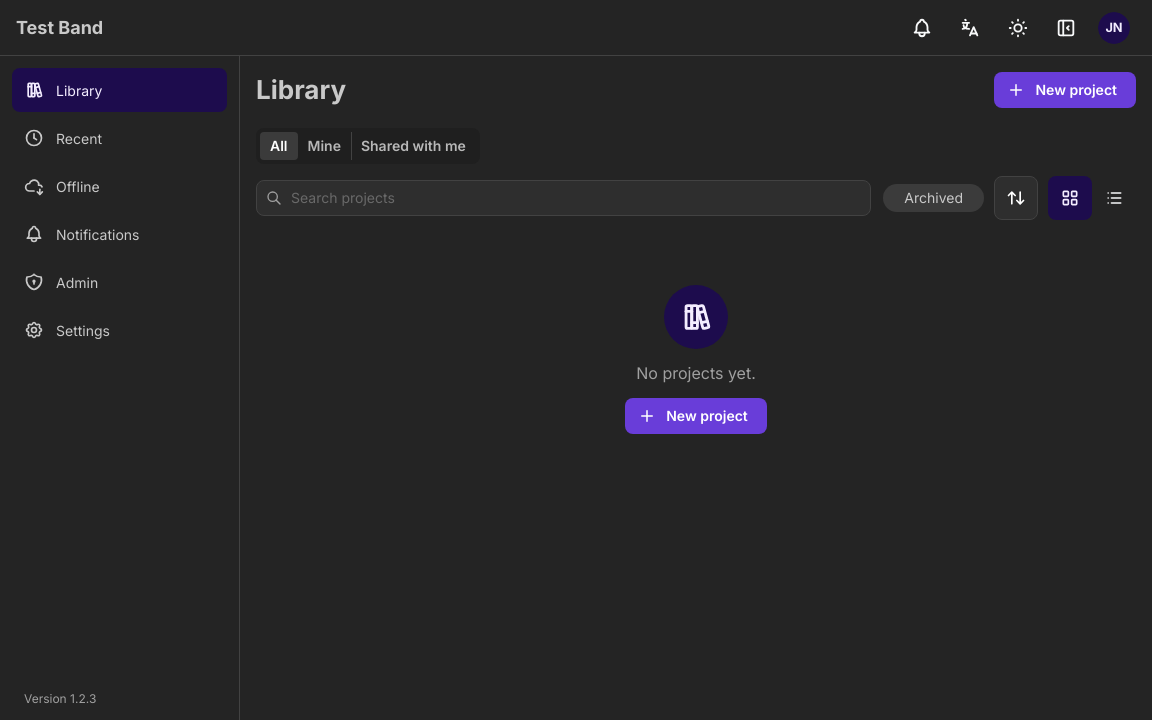
Test: app shell (logged in) › navigates between sections
Click the link "Offline": point(62, 186) [24, 176, 100, 196]
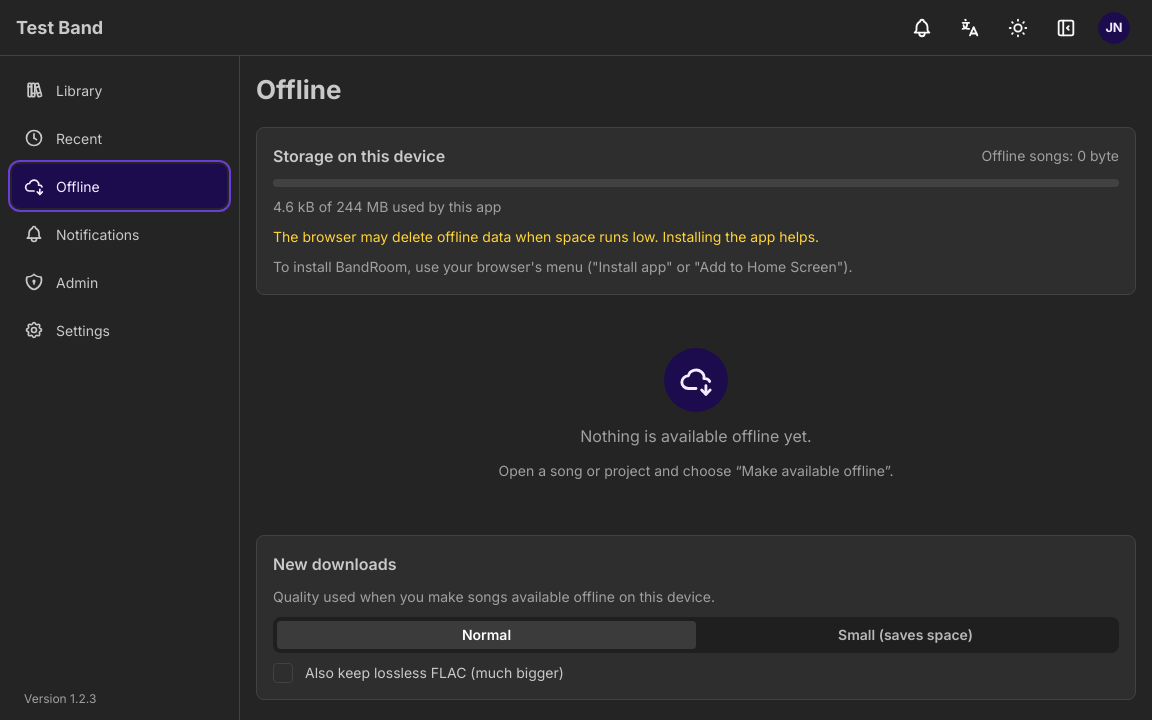
Now the heading "Offline" is shown, box [256, 74, 341, 105]
